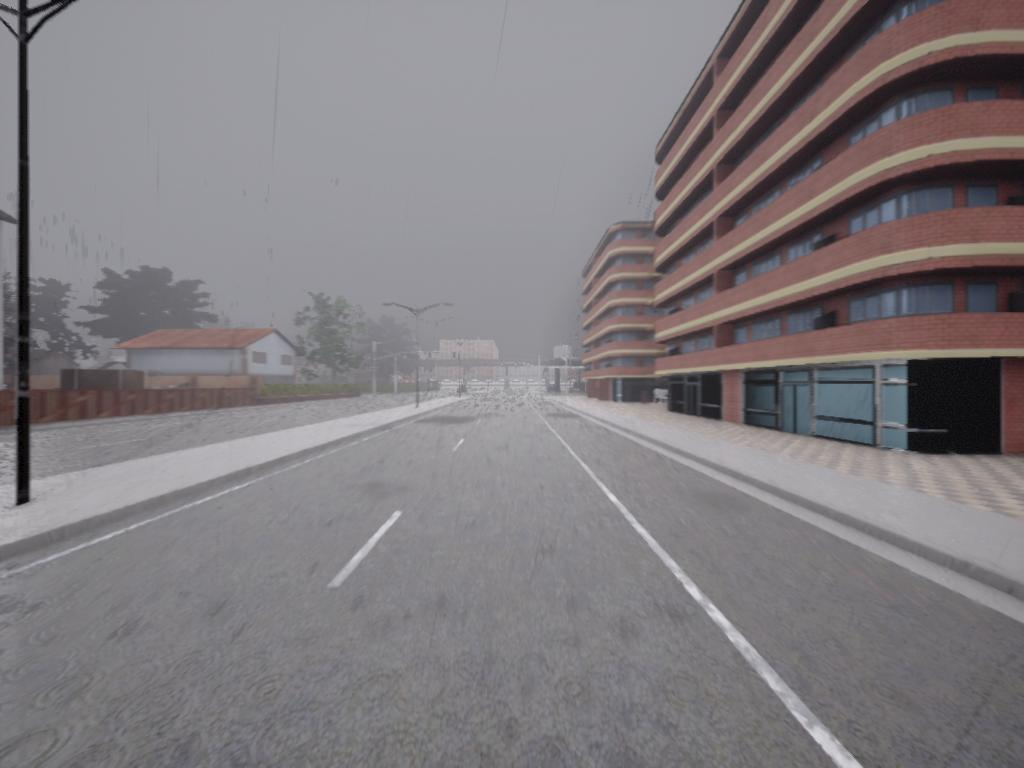traffic_light: (453, 353, 457, 361), (501, 361, 504, 369), (515, 361, 518, 369), (429, 354, 432, 360)
